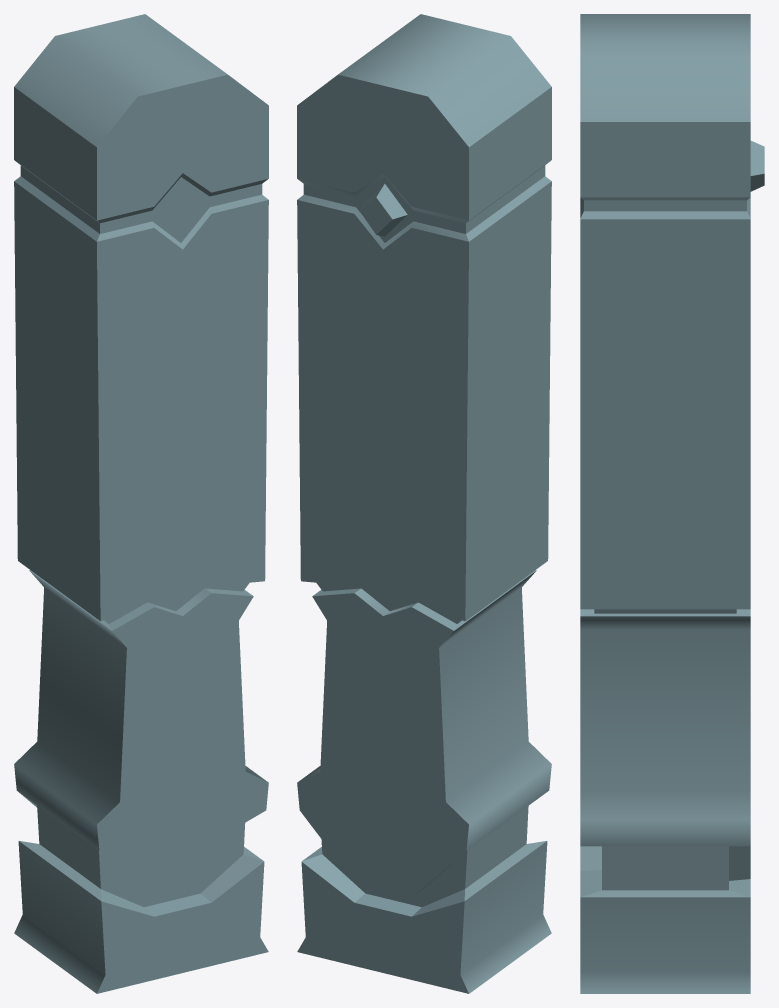
The model's file is TempleBeam.fbx.
3 views of the same model, side by side, from view 1: azimuth 30°, elevation 25°; view 2: azimuth 150°, elevation 25°; view 3: azimuth 270°, elevation 25° (orthographic). The views are drawn at different scales.
Parts seen in each view (by area): view 1: Temple_Beam; view 2: Temple_Beam; view 3: Temple_Beam.
Part boxes in pixels (bbox=[...]): Temple_Beam: bbox=[14, 14, 268, 993]; Temple_Beam: bbox=[297, 14, 551, 993]; Temple_Beam: bbox=[580, 14, 764, 993].
Bounding box in the file's own units: 2.27 × 11.2 × 2.05.
